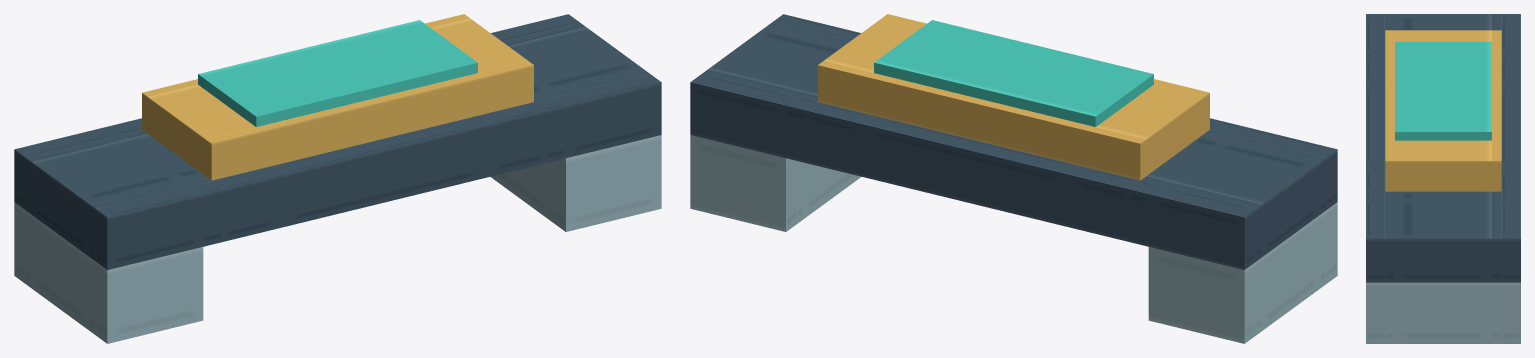
File: sc_mount_electromagnetic_brake.obj
The picture shows the model from 3 angles, left to right: view 1: azimuth 30°, elevation 25°; view 2: azimuth 150°, elevation 25°; view 3: azimuth 270°, elevation 25°; orthographic projection. The views are drawn at different scales.
Size of the model in its own units: 11 by 3.3 by 3.2.
1 material, 1 textured.
